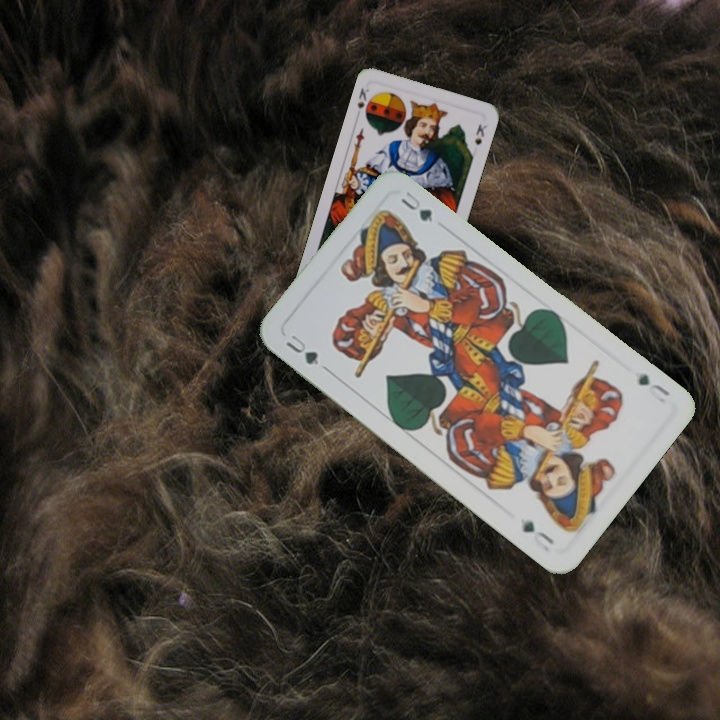GU: (281, 330, 330, 373), (634, 368, 673, 406)
SK: (353, 84, 371, 112)
